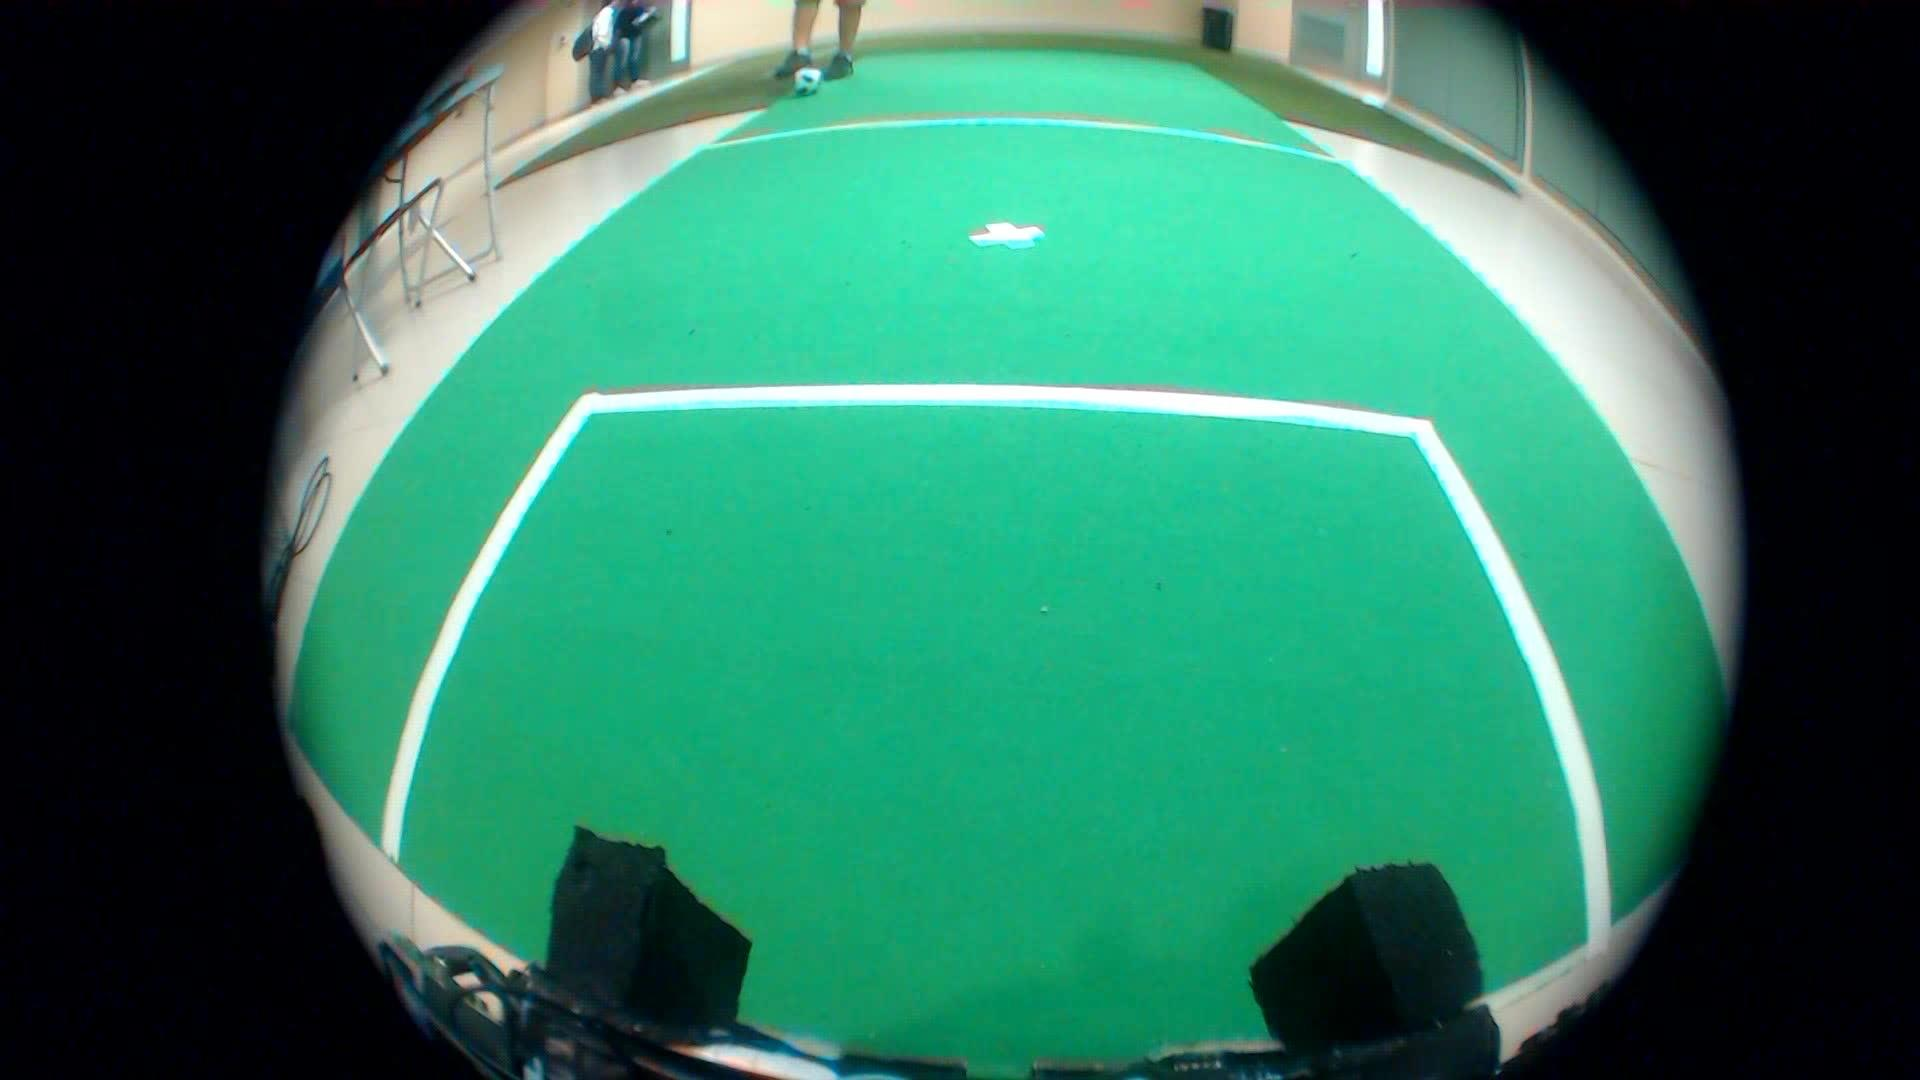ball: (795, 53, 829, 98)
